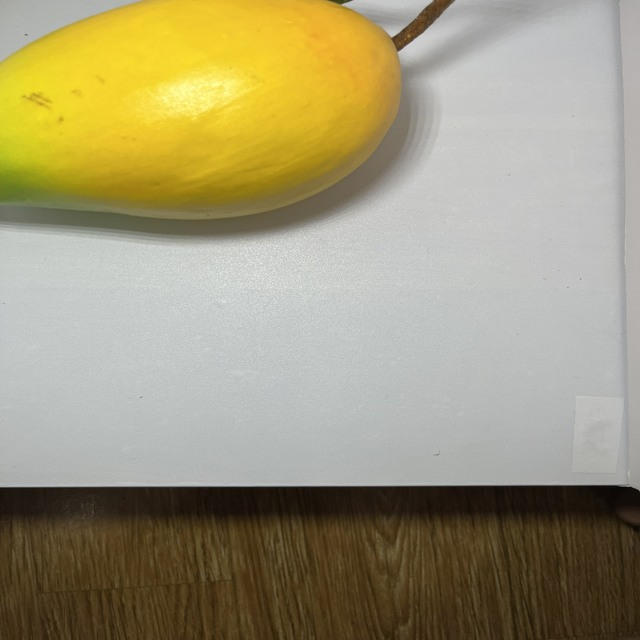Xoai: (0, 0, 411, 223)
